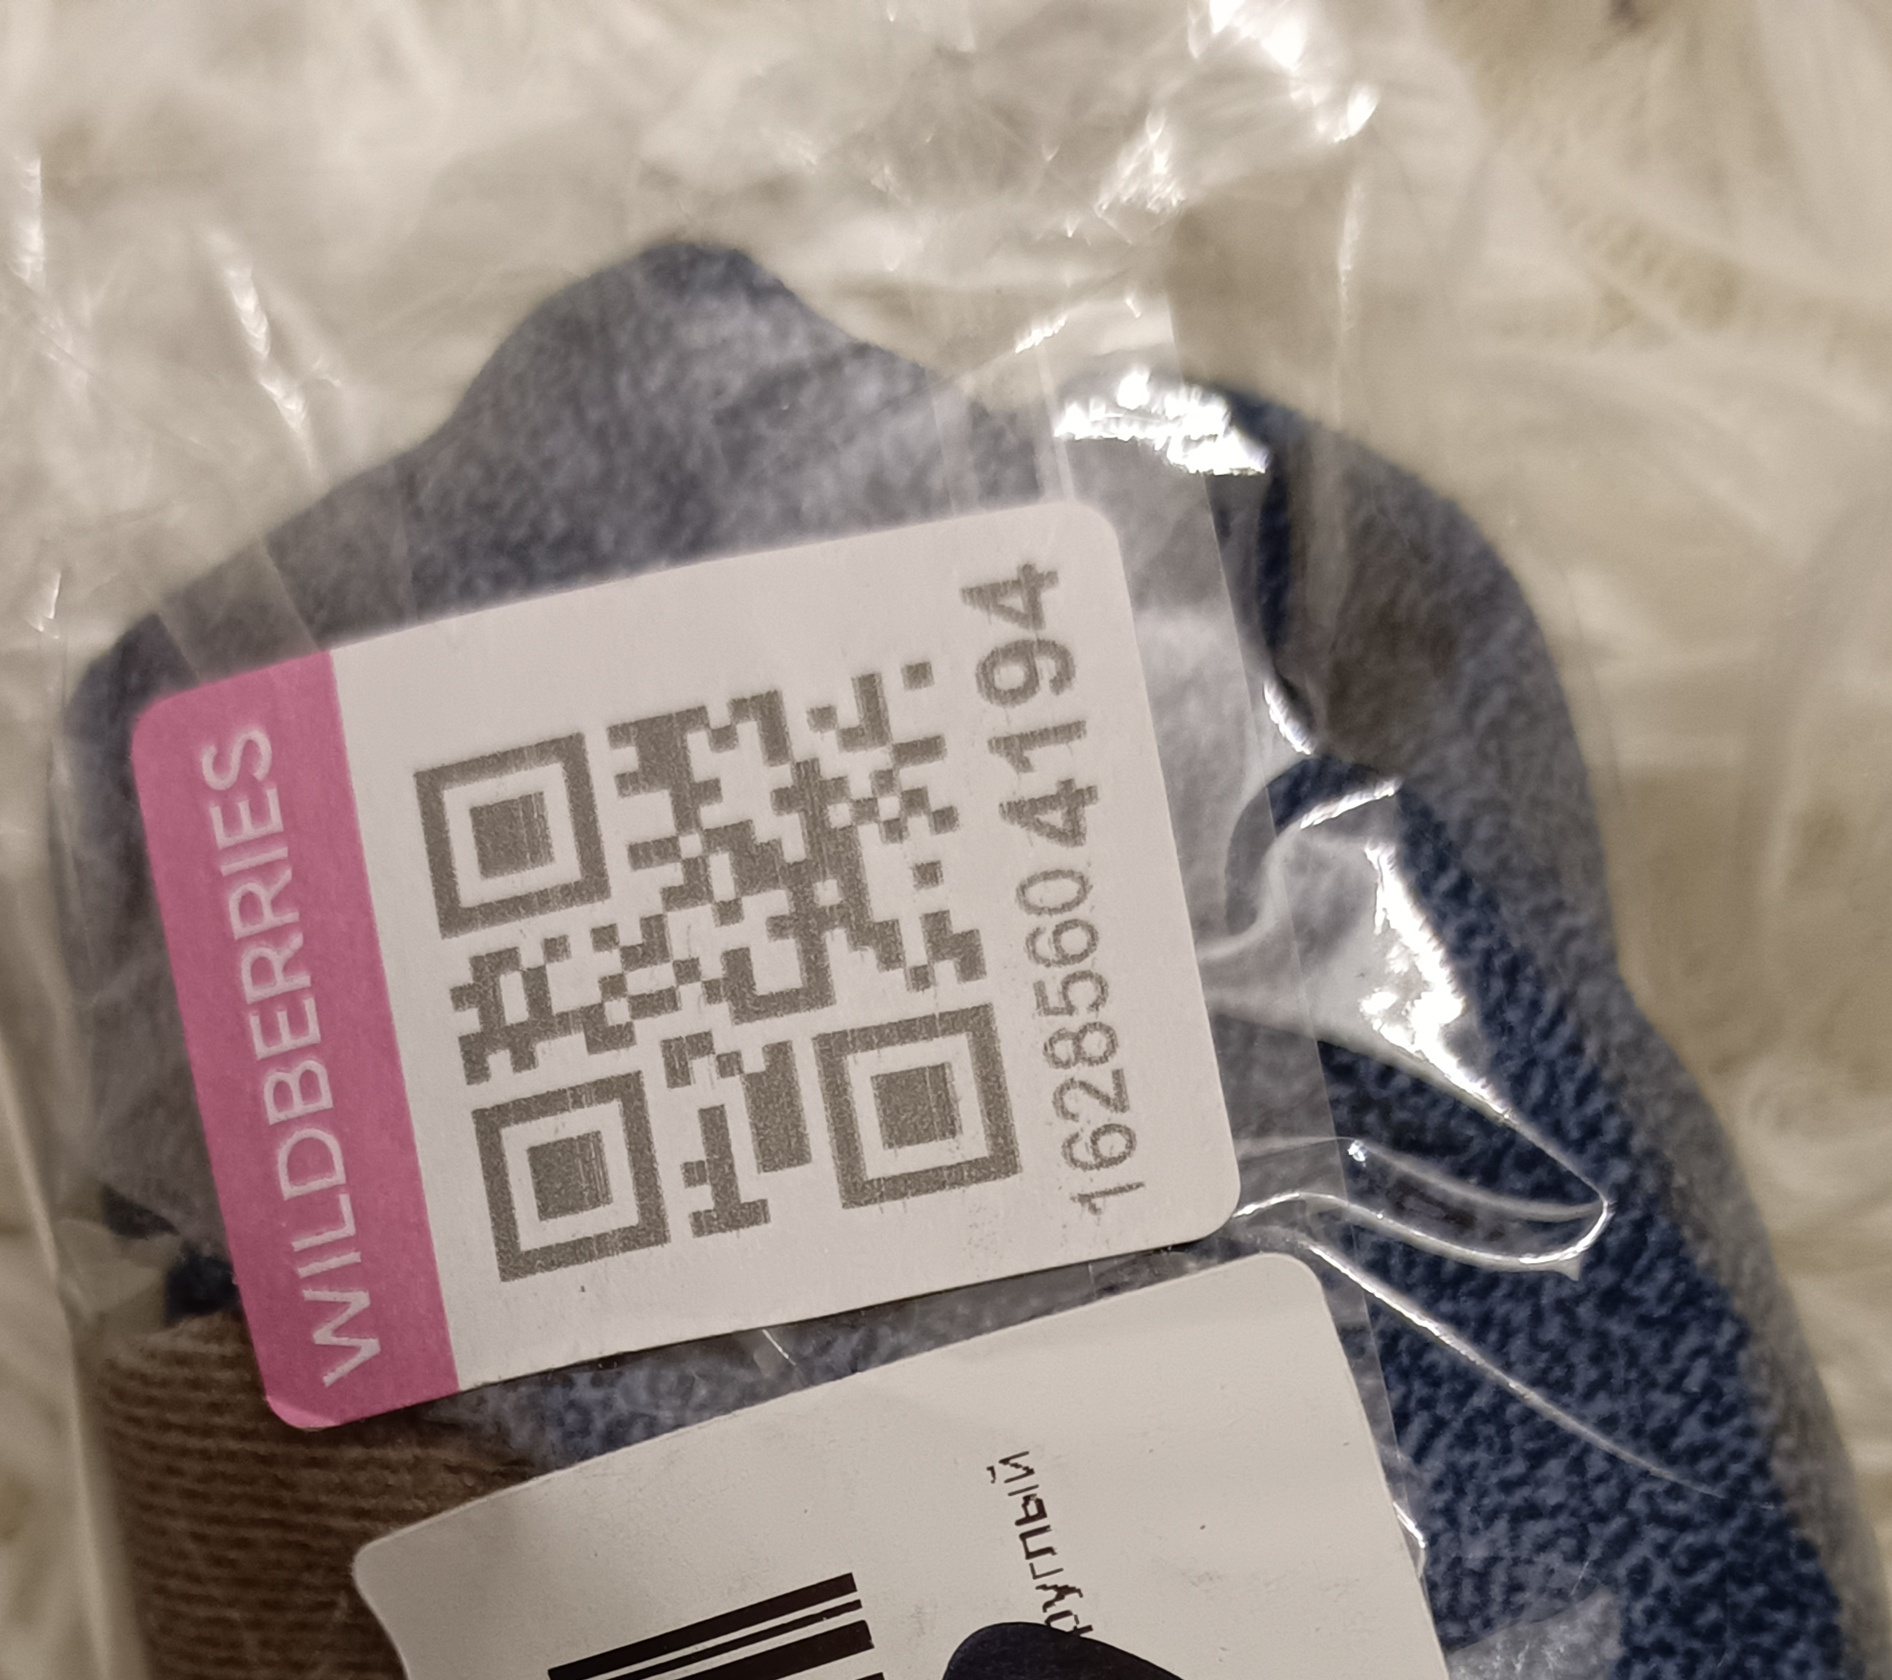2d: (409, 652, 1018, 1291)
